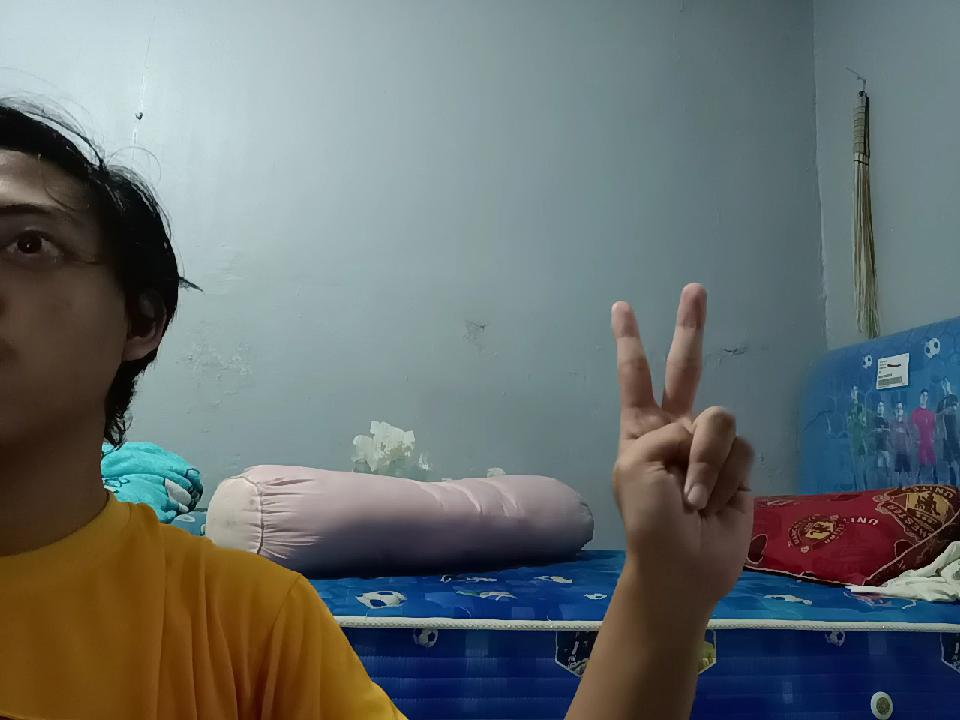scissors: (593, 269, 751, 583)
